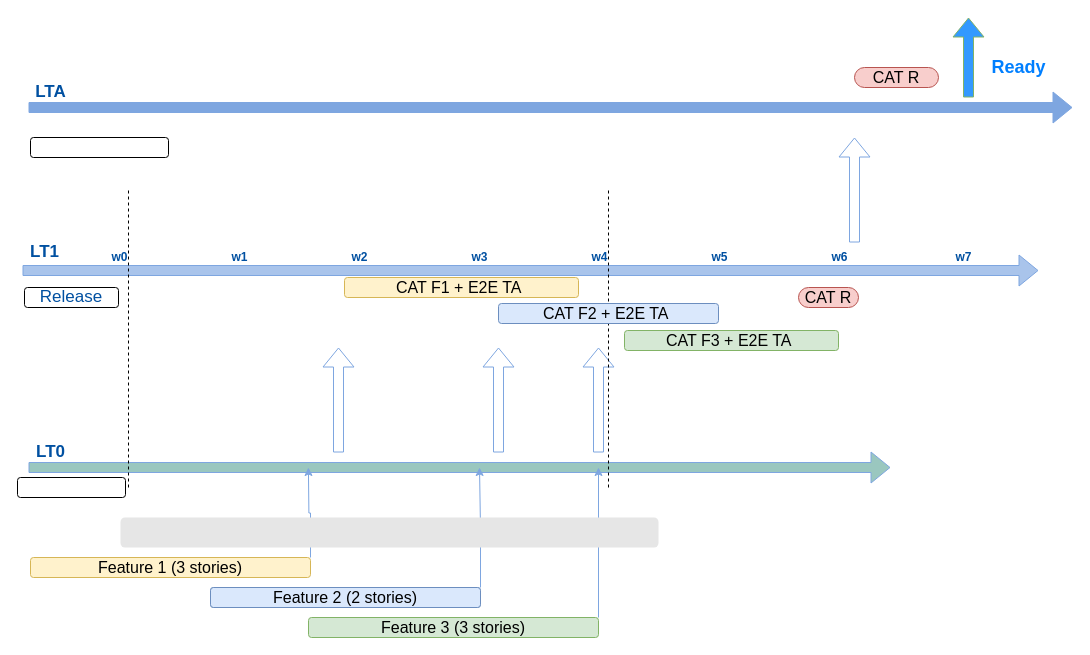
Image size: 1090x655. Some labels were removed from this diagram. Each missing label, with the centre of its shape:
"CAT Regression" belongs at pixel 99 147.
"Development" belongs at pixel 71 487.
"Story testing automation" belongs at pixel 389 532.
